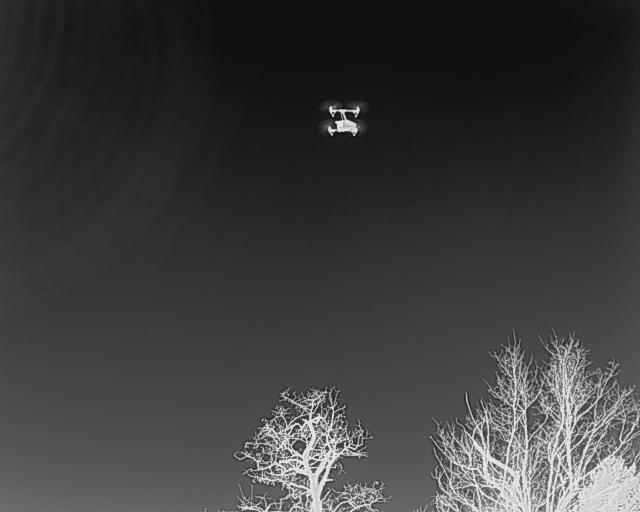drone: (312, 94, 375, 144)
